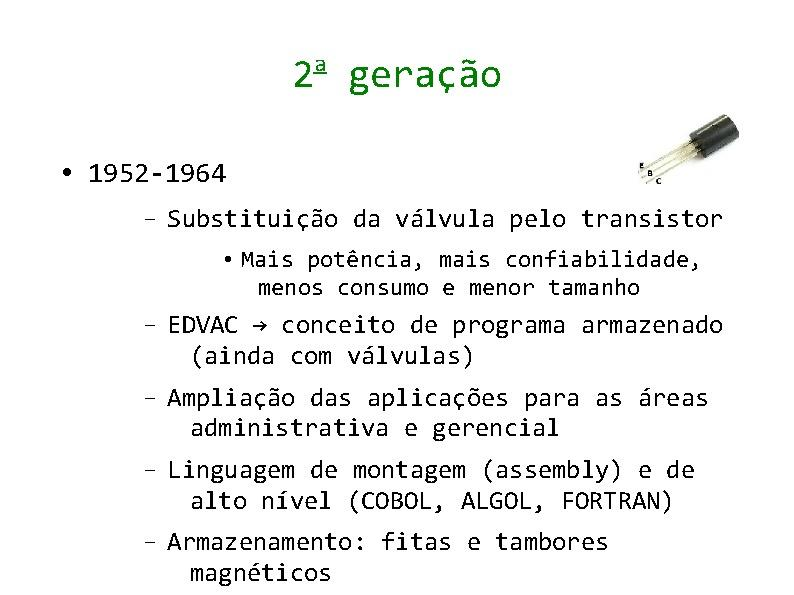paragraph: (131, 192, 771, 595)
subtitle: (53, 135, 245, 194)
title: (287, 42, 529, 114)
